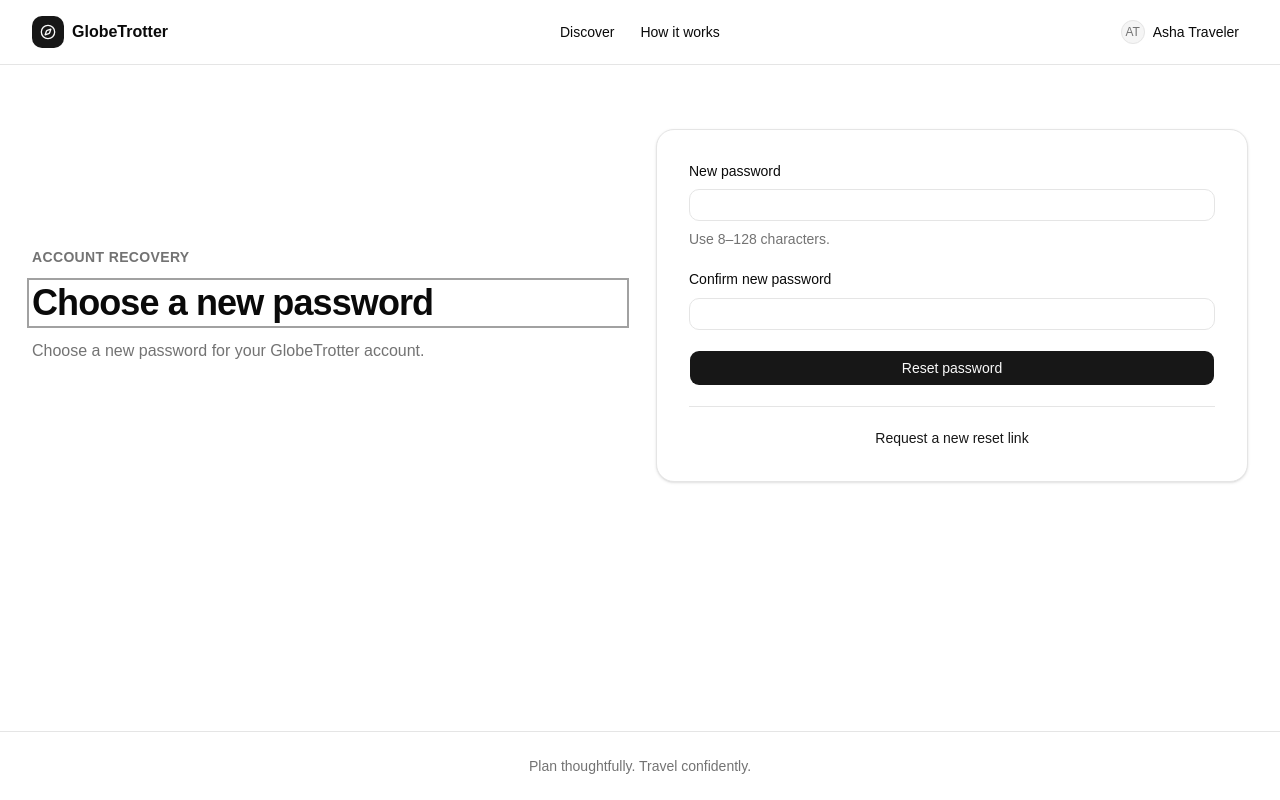
Test: authentication routes › clears a cached session after password reset
Type "new-password" into the password field labelled "New password" at (952, 205), box [689,189,1215,221]
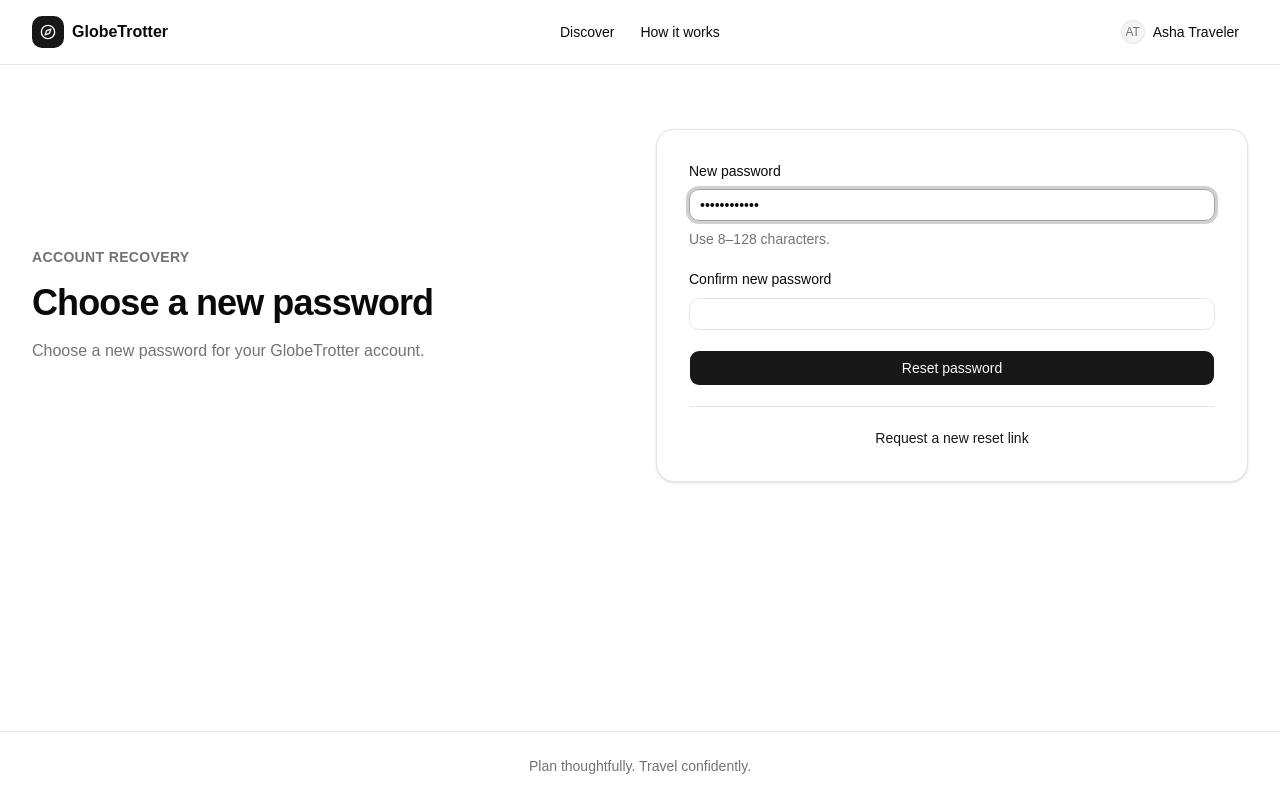
Type "new-password" into the password field labelled "Confirm new password" at (952, 314), box [689,298,1215,330]
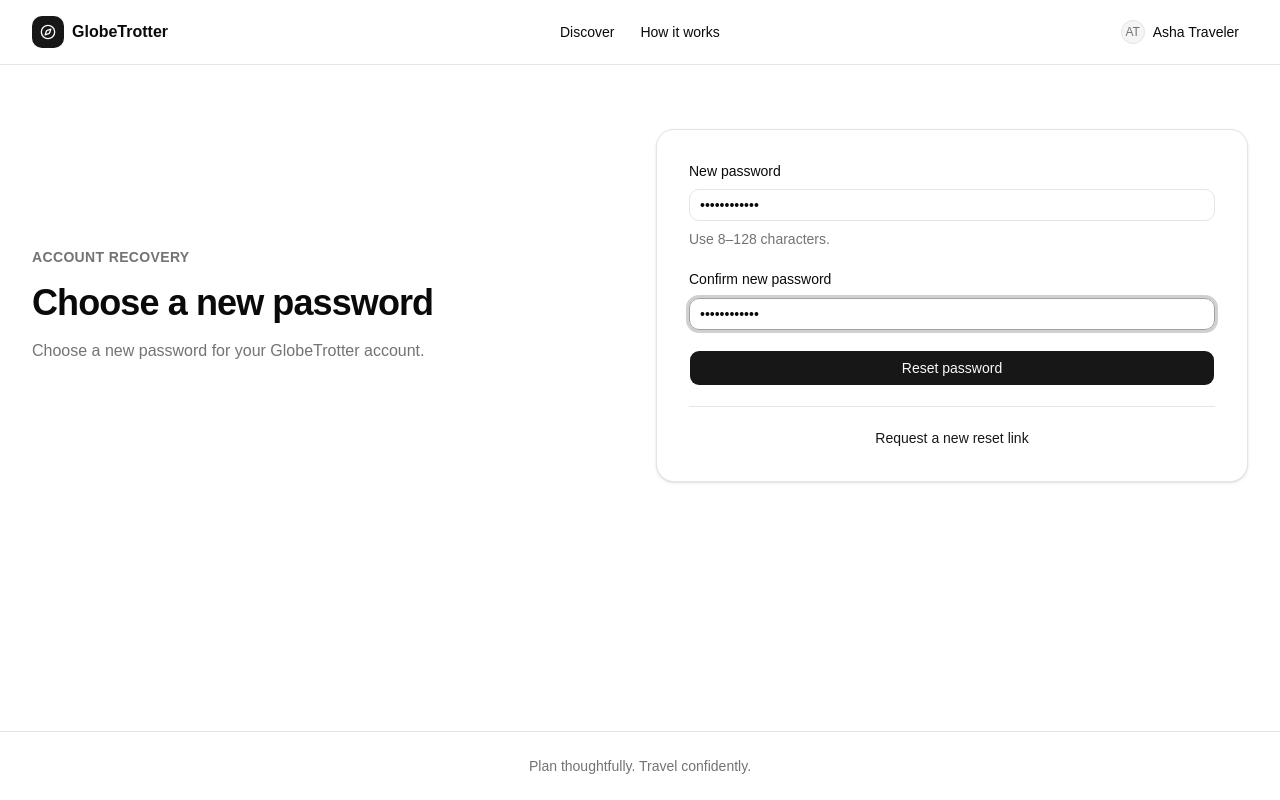
Click the button "Reset password" at (952, 368), box [689,350,1215,386]
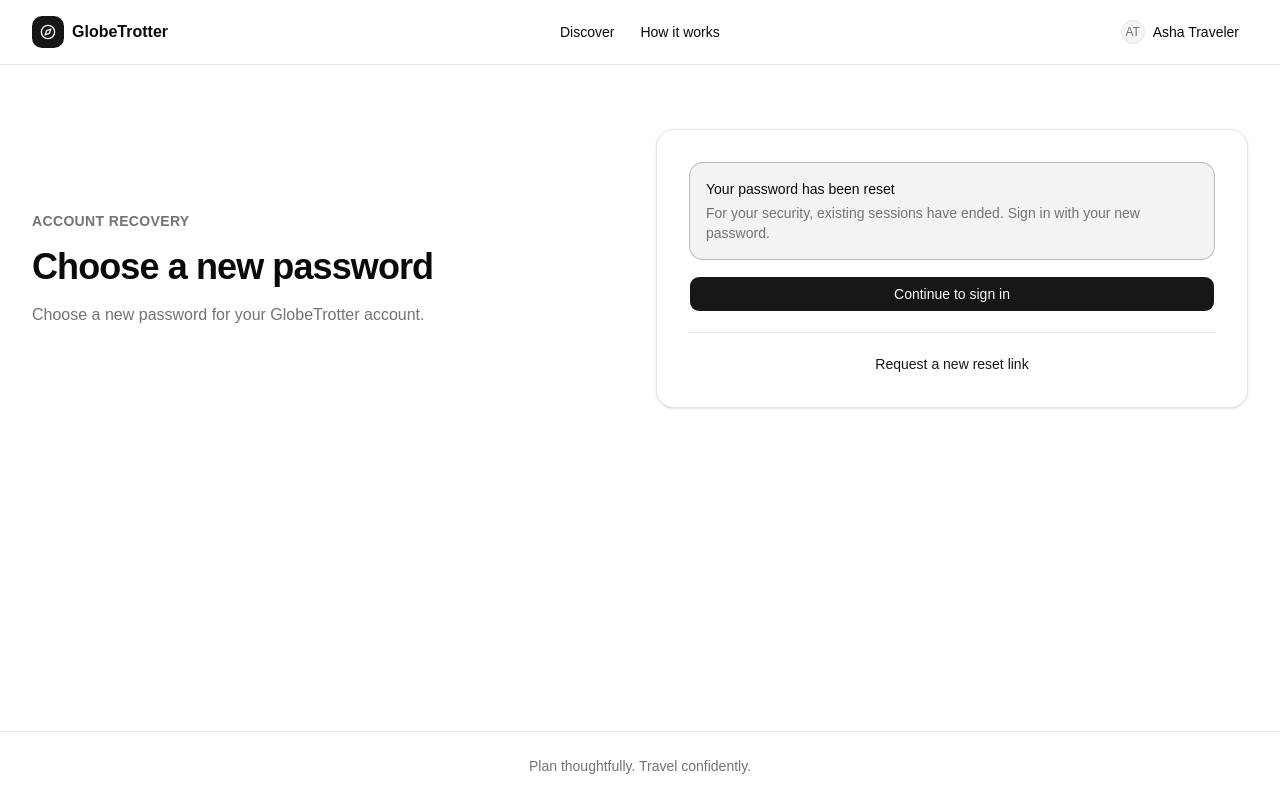
Now the text "Your password has been reset" is shown, box [706,181,895,197]
